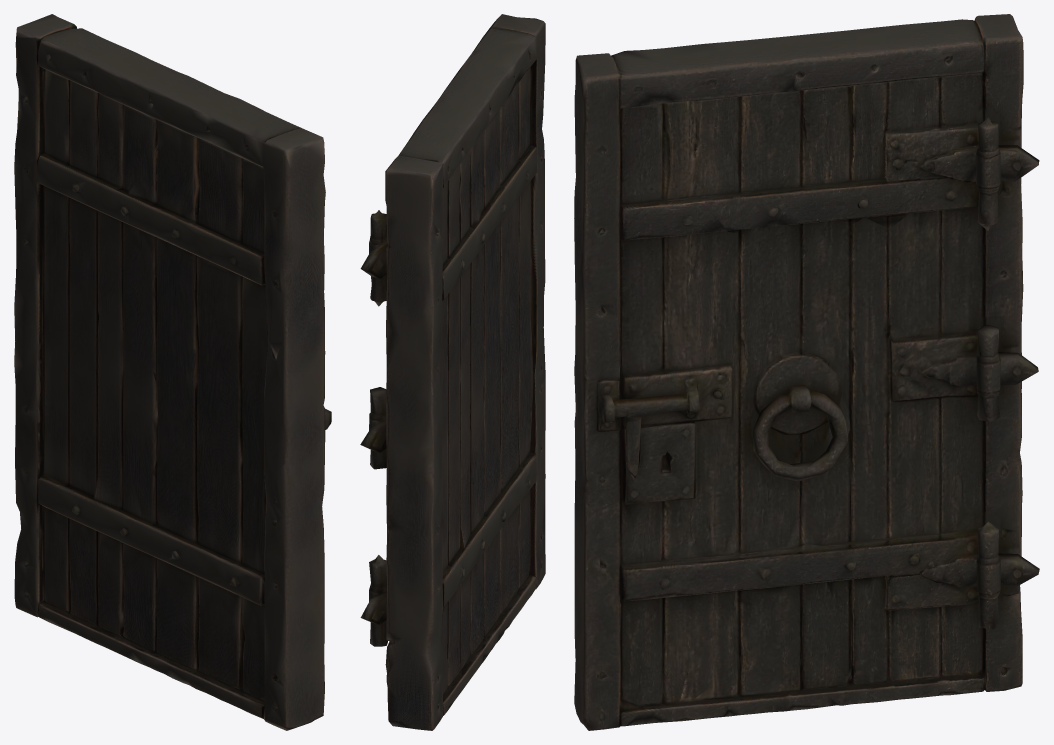
Rendered from heavy-door.glb.
3 renders of one model, left to right at view 1: azimuth 30°, elevation 25°; view 2: azimuth 150°, elevation 25°; view 3: azimuth 270°, elevation 25°, orthographic. The views are drawn at different scales.
Parts seen in each view (by area): view 1: tripo_node_4392f8c6-333b-4802-a6be-eec18d6b9229; view 2: tripo_node_4392f8c6-333b-4802-a6be-eec18d6b9229; view 3: tripo_node_4392f8c6-333b-4802-a6be-eec18d6b9229.
Boxes of the visible parts, x1,y1,x2,y2 form: tripo_node_4392f8c6-333b-4802-a6be-eec18d6b9229: (14,14,331,730); tripo_node_4392f8c6-333b-4802-a6be-eec18d6b9229: (360,14,545,730); tripo_node_4392f8c6-333b-4802-a6be-eec18d6b9229: (574,14,1039,730).
Bounding box in the file's own units: 0.2456 × 1 × 0.646.
Materials: 1 (1 with a texture image).
